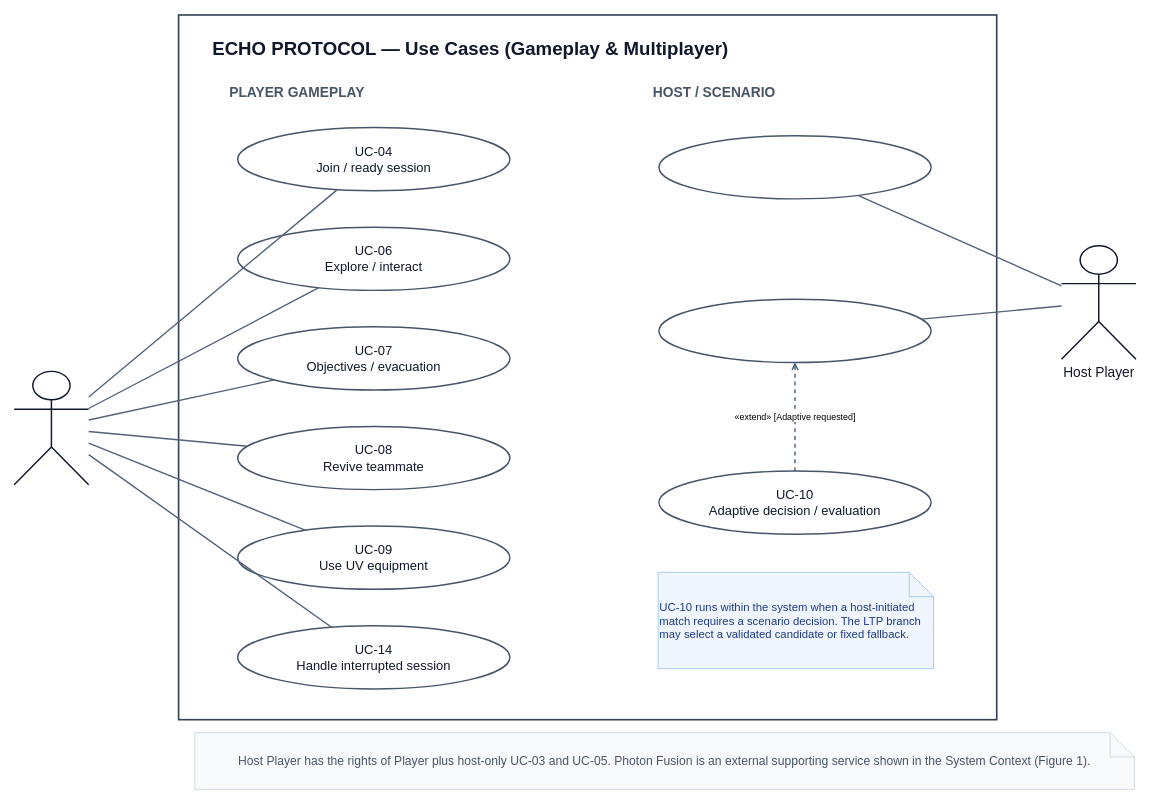
Image size: 1151x804. Some labels were removed from this diagram. The shapes that lost their labels are listed below. From the top down, each one's centre as x and y in pixels, then its label:
pixel 794 167: UC-03 Create private session
pixel 794 330: UC-05 Start Expedition
pixel 51 427: Player
